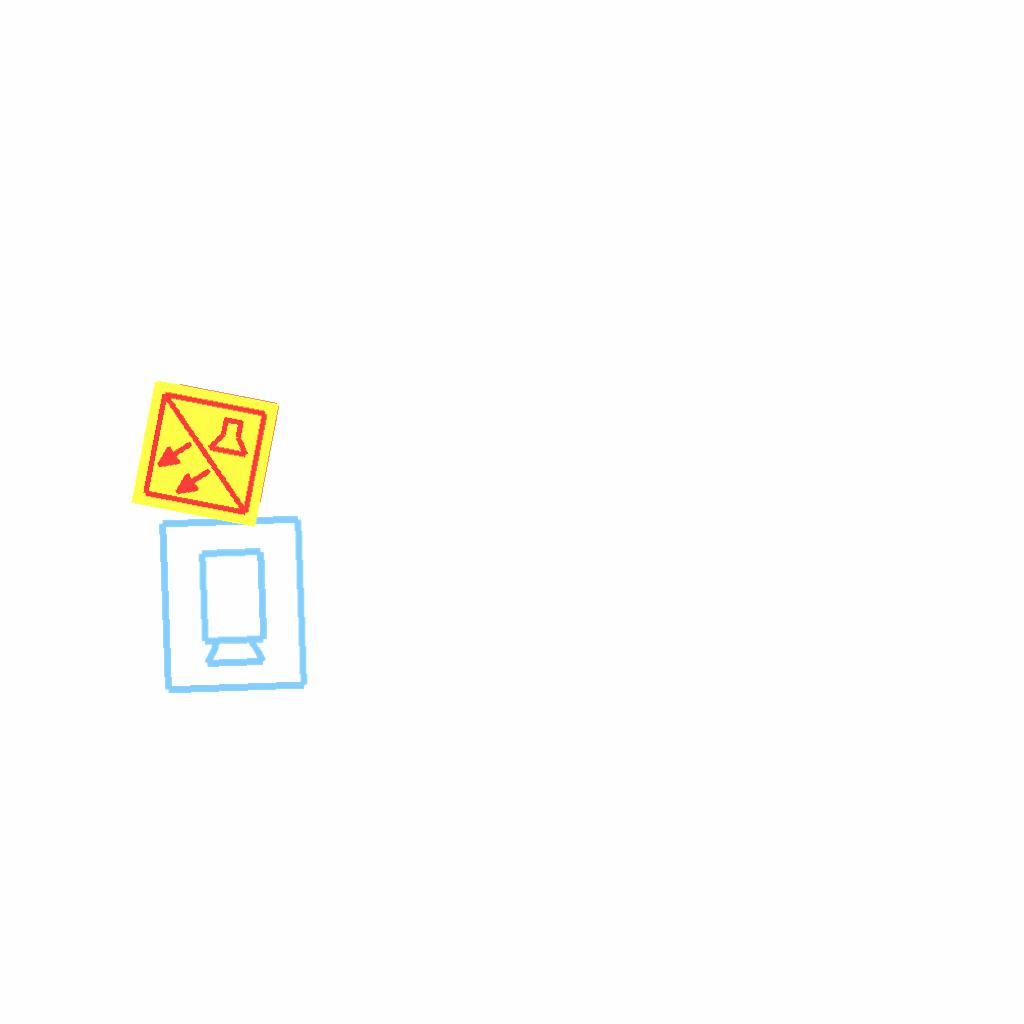KFO_Kamera_mit_Festobjektiv: (151, 510, 313, 698)
OKW_Multisensormelder_(Kombination_optischer_Rauch-Kahlenmonoxid_Waerme-Melder): (127, 375, 283, 531)
